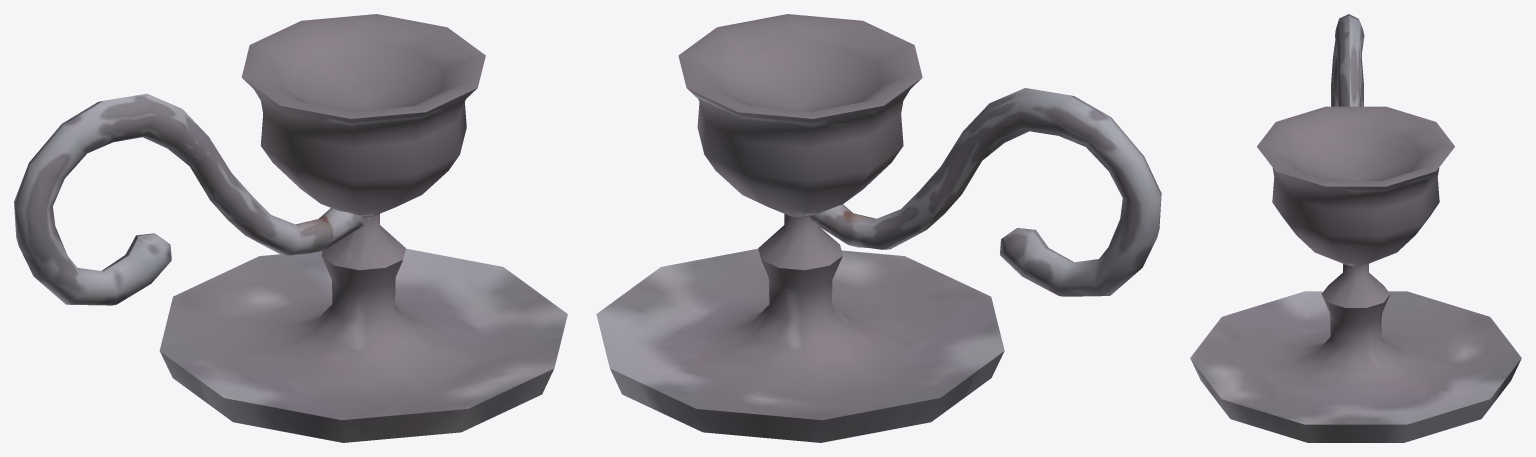
The model's file is CandleStick.glb.
3 views of the same model, side by side, from view 1: azimuth 30°, elevation 25°; view 2: azimuth 150°, elevation 25°; view 3: azimuth 270°, elevation 25° (orthographic). The views are drawn at different scales.
Visible parts, largest first — view 1: CandleStick; view 2: CandleStick; view 3: CandleStick.
Part boxes in pixels (left/top/right/bottom): CandleStick: left=14, top=14, right=567, bottom=442; CandleStick: left=596, top=14, right=1161, bottom=442; CandleStick: left=1190, top=14, right=1521, bottom=442.
Size of the model in its own units: 0.2609 by 0.1552 by 0.1793.
1 material, 1 textured.
